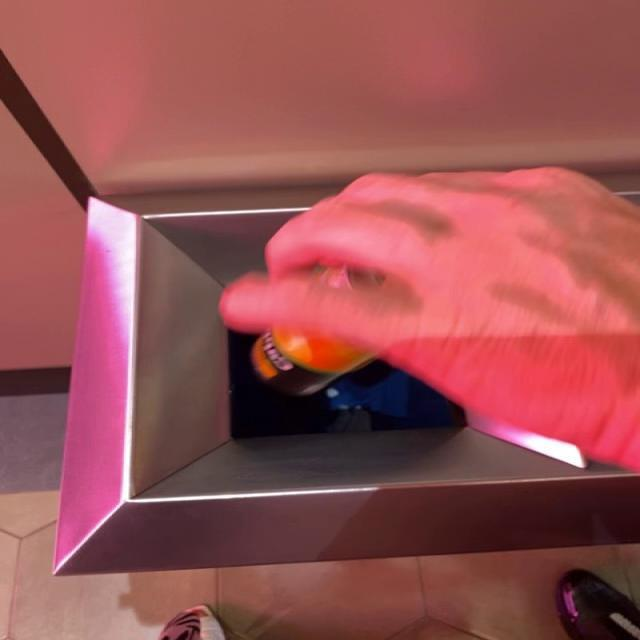Bin: (52, 189, 639, 576)
Metal: (251, 329, 375, 396)
